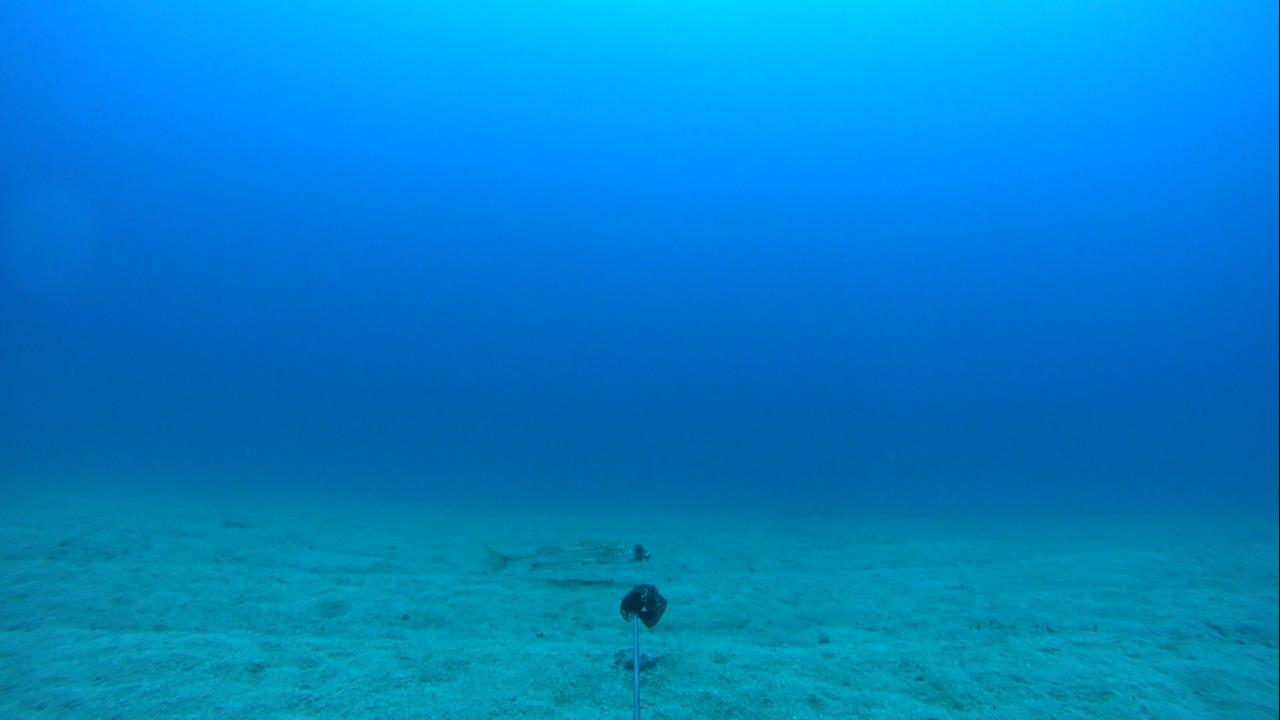dactylopterus: (469, 533, 653, 580)
